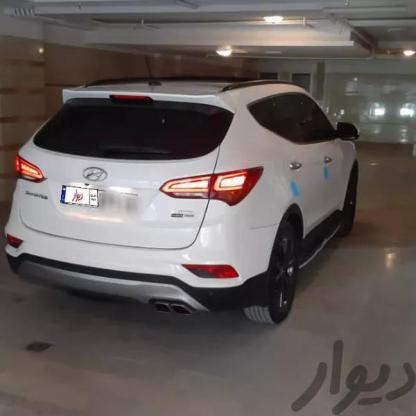Car: (0, 76, 358, 324)
